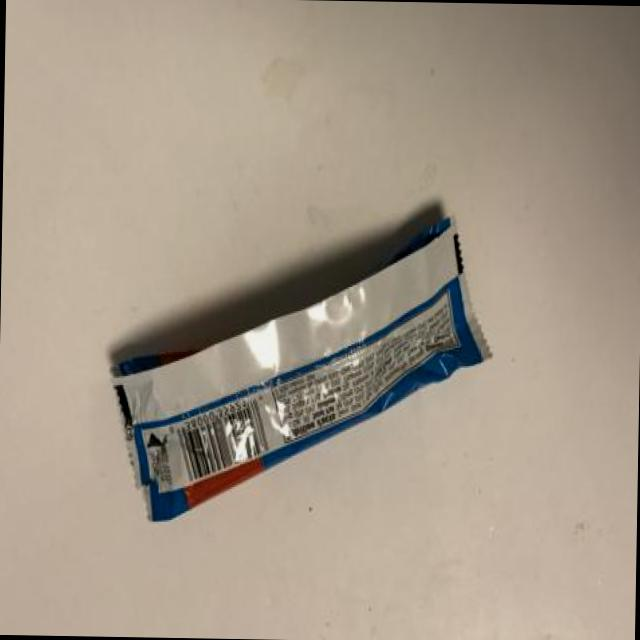bao_bi_thuc_pham: (109, 213, 492, 521)
